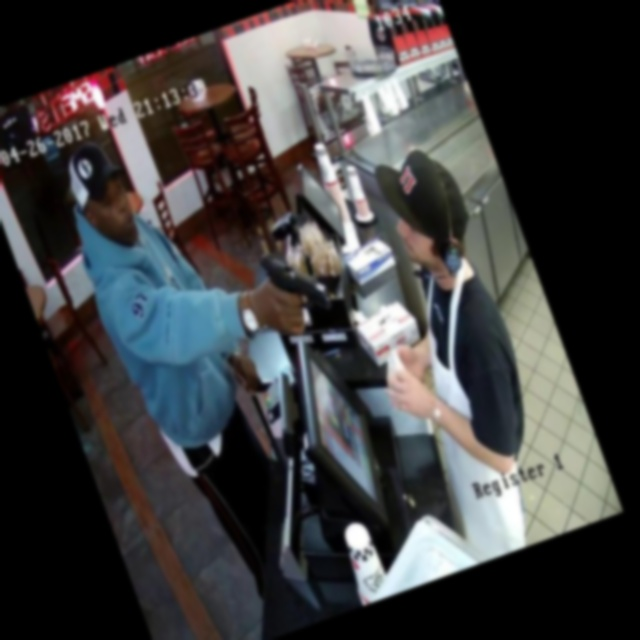gun: (238, 221, 350, 337)
